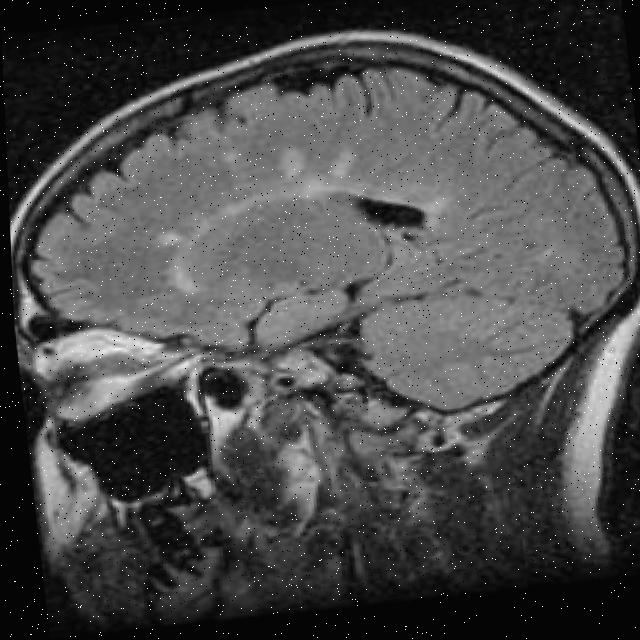NoTumor: (1, 0, 640, 454)
